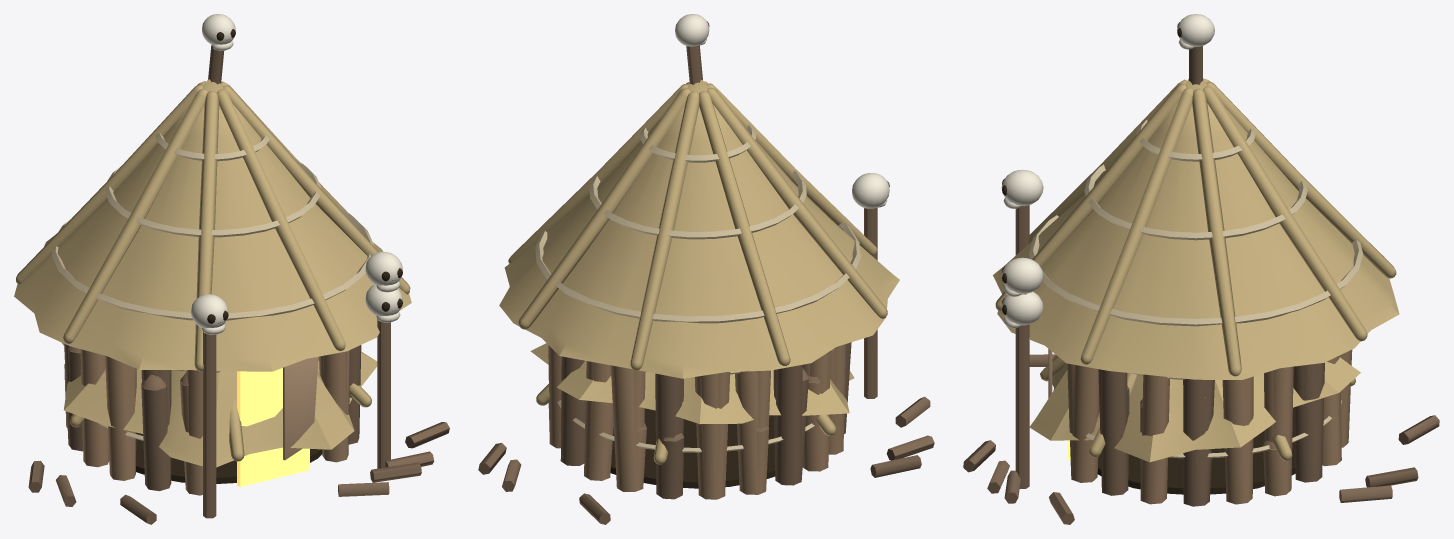
File: gen_hut.glb
The picture shows the model from 3 angles, left to right: view 1: azimuth 30°, elevation 25°; view 2: azimuth 150°, elevation 25°; view 3: azimuth 270°, elevation 25°; orthographic projection. The views are drawn at different scales.
Parts seen in each view (by area): view 1: state_0, state_2, state_1; view 2: state_0, state_2, state_1; view 3: state_0, state_2, state_1.
Part boxes in pixels (x1,y1,x2,y2): state_0: [14, 14, 411, 518]; state_2: [28, 342, 449, 524]; state_1: [64, 284, 402, 487]; state_0: [499, 14, 899, 499]; state_2: [478, 342, 934, 524]; state_1: [548, 344, 845, 499]; state_0: [993, 14, 1399, 506]; state_2: [963, 354, 1439, 524]; state_1: [1001, 291, 1352, 505].
Bounding box in the file's own units: 1.29 × 1.37 × 1.37.
